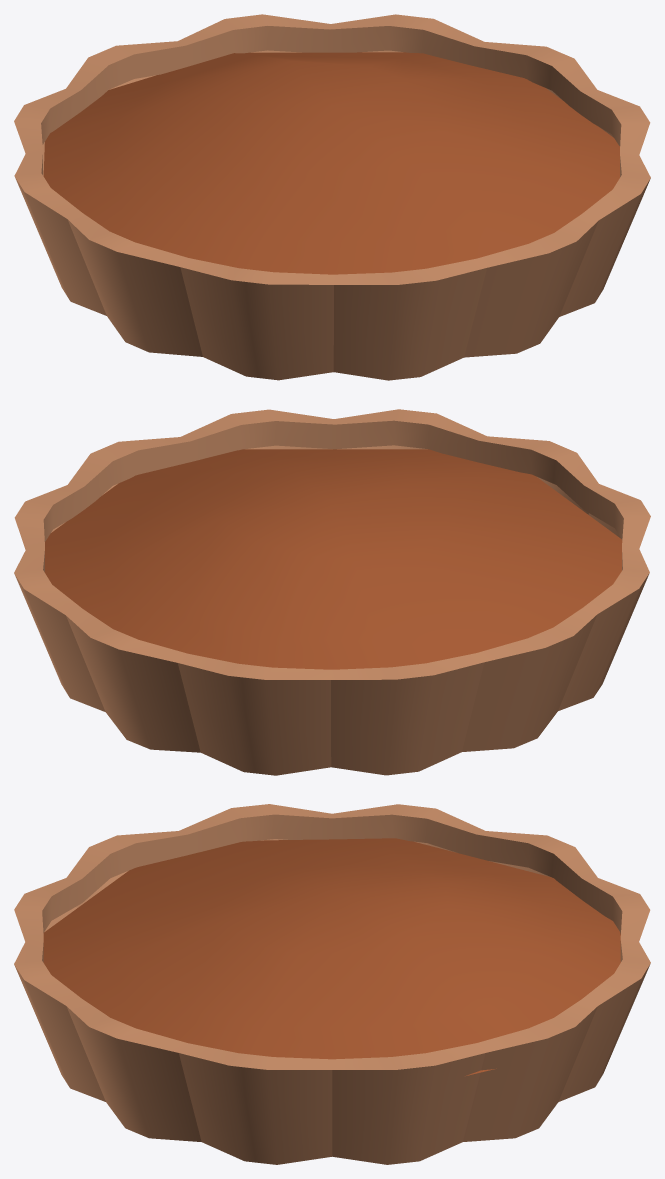
File: SM_Pumpkin_Pie.fbx
3 renders of one model, top to bottom at view 1: azimuth 30°, elevation 25°; view 2: azimuth 150°, elevation 25°; view 3: azimuth 270°, elevation 25°, orthographic.
Parts seen in each view (by area): view 1: Cylinder.020, Cylinder.019; view 2: Cylinder.020, Cylinder.019; view 3: Cylinder.020, Cylinder.019.
Boxes of the visible parts, x1,y1,x2,y2 form: Cylinder.020: [43, 52, 619, 274]; Cylinder.019: [14, 14, 650, 380]; Cylinder.020: [44, 449, 622, 669]; Cylinder.019: [14, 409, 650, 775]; Cylinder.020: [43, 838, 620, 1076]; Cylinder.019: [14, 804, 650, 1164].
Bounding box in the file's own units: 45.13 × 12.46 × 45.68.
